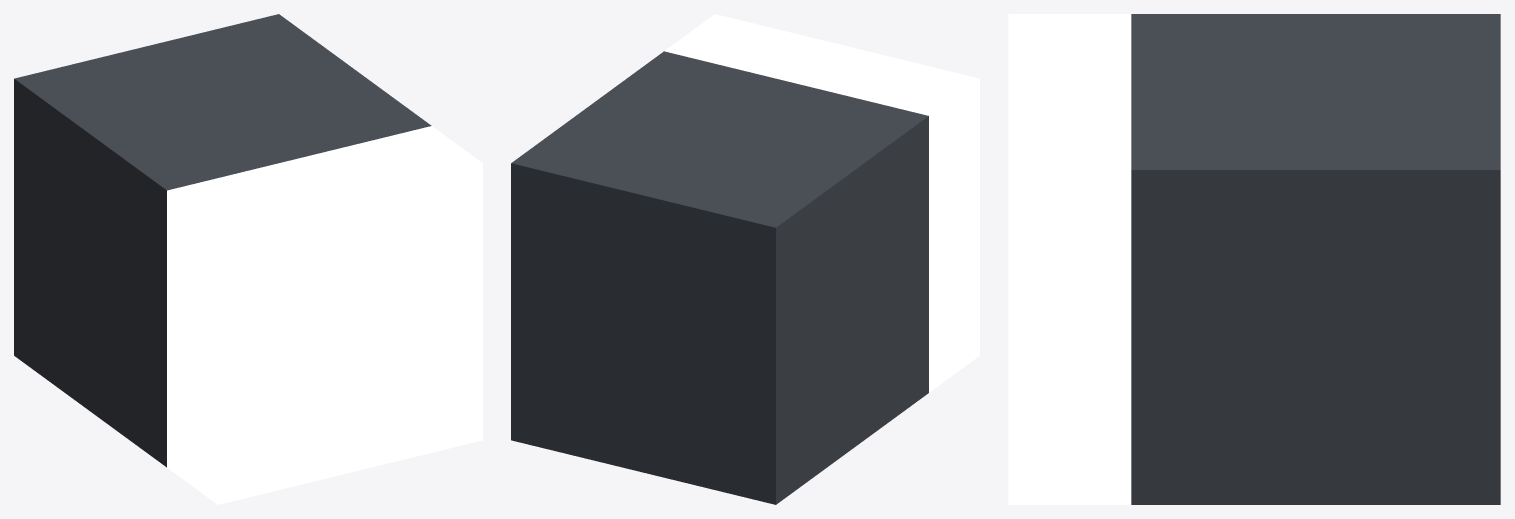
The model's file is cm_tower_lamp.glb.
3 renders of one model, left to right at view 1: azimuth 30°, elevation 25°; view 2: azimuth 150°, elevation 25°; view 3: azimuth 270°, elevation 25°, orthographic. The views are drawn at different scales.
Parts seen in each view (by area): view 1: cm_tower_lamp_body; view 2: cm_tower_lamp_body; view 3: cm_tower_lamp_body.
Boxes of the visible parts, x1,y1,x2,y2 form: cm_tower_lamp_body: (14,14,482,504); cm_tower_lamp_body: (511,14,979,504); cm_tower_lamp_body: (1008,14,1500,504).
Size of the model in its own units: 0.1875 by 0.1875 by 0.25.
1 material, 1 textured.
